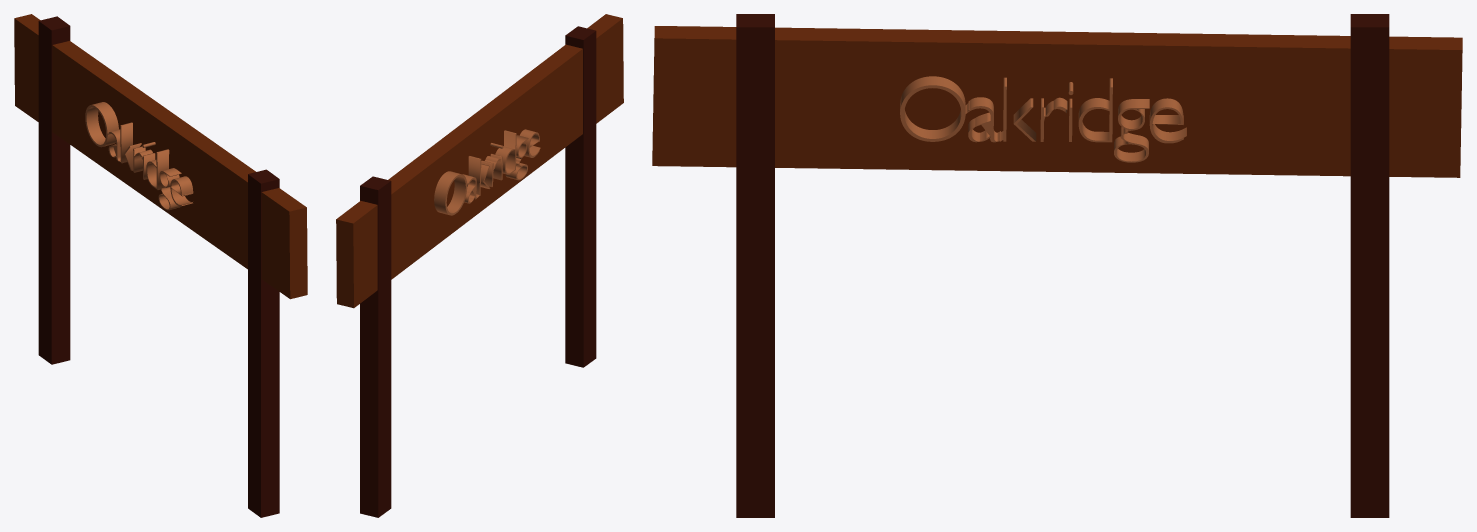
Rendered from Oakridge Camp.fbx.
The picture shows the model from 3 angles, left to right: view 1: azimuth 30°, elevation 25°; view 2: azimuth 150°, elevation 25°; view 3: azimuth 270°, elevation 25°; orthographic projection. The views are drawn at different scales.
Parts seen in each view (by area): view 1: Cube.001, Text; view 2: Cube.001, Text; view 3: Cube.001, Text.001.
Part boxes in pixels (bbox=[...]): Cube.001: bbox=[14, 14, 307, 517]; Text: bbox=[85, 102, 193, 210]; Cube.001: bbox=[336, 14, 623, 517]; Text: bbox=[434, 129, 540, 215]; Cube.001: bbox=[652, 14, 1462, 517]; Text.001: bbox=[900, 76, 1186, 162].
Bounding box in the file's own units: 102 × 777 × 1163.
